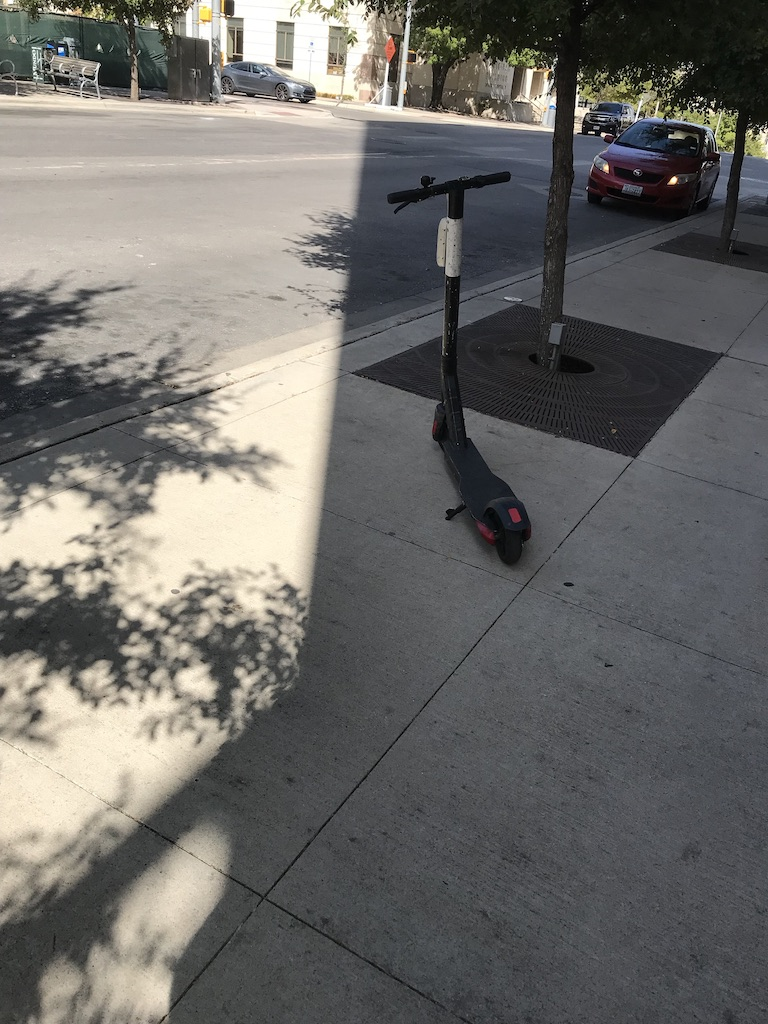scooter: (386, 167, 533, 569)
